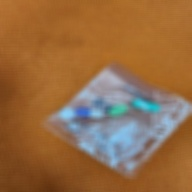러키펜정: (59, 108, 76, 121)
씨엠지세파클러캡슐: (74, 108, 106, 119)
에르도캡슐: (131, 100, 161, 113)
휴티렌정: (108, 105, 127, 115)
